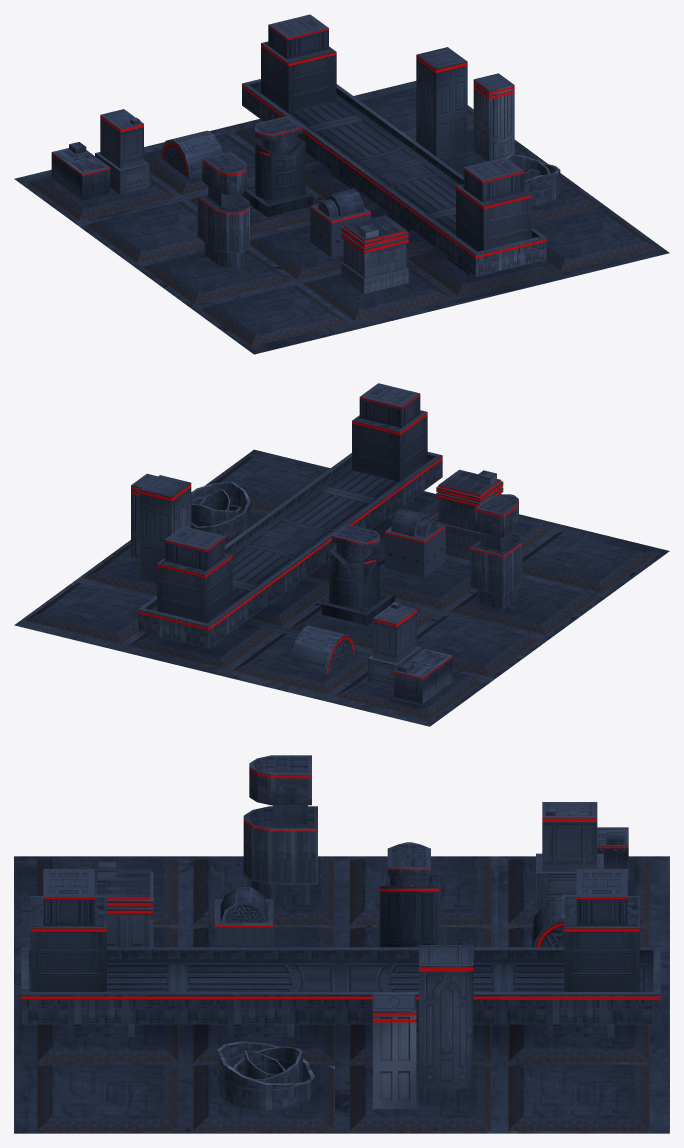
The model's file is CityBlock2_Model.FBX.
The picture shows the model from 3 angles, top to bottom: view 1: azimuth 30°, elevation 25°; view 2: azimuth 150°, elevation 25°; view 3: azimuth 270°, elevation 25°; orthographic projection. The views are drawn at different scales.
Parts seen in each view (by area): view 1: polySurface05; view 2: polySurface05; view 3: polySurface05.
Boxes of the visible parts, <box> form: polySurface05: <box>14,14,669,354</box>; polySurface05: <box>14,383,669,726</box>; polySurface05: <box>14,755,669,1133</box>.
Bounding box in the file's own units: 43.8 × 10.79 × 43.8.
Materials: 1 (1 with a texture image).
